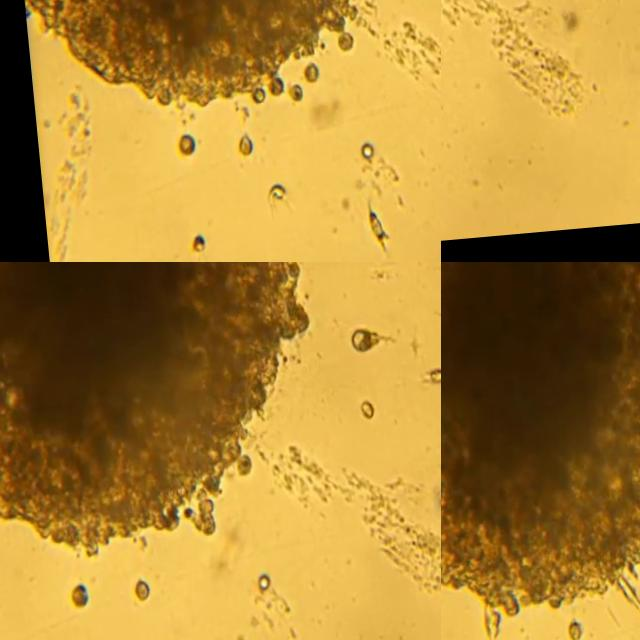cell: (346, 336, 388, 359), (359, 217, 377, 246), (168, 134, 187, 159), (60, 587, 77, 609), (420, 380, 441, 397), (557, 623, 576, 640), (124, 583, 140, 603), (178, 236, 193, 255), (294, 68, 308, 88), (256, 189, 274, 204), (351, 410, 366, 428), (279, 90, 294, 107), (248, 580, 260, 598), (350, 150, 363, 166), (228, 143, 239, 159)
tumor_mass: (441, 262, 640, 640), (18, 0, 350, 110)
